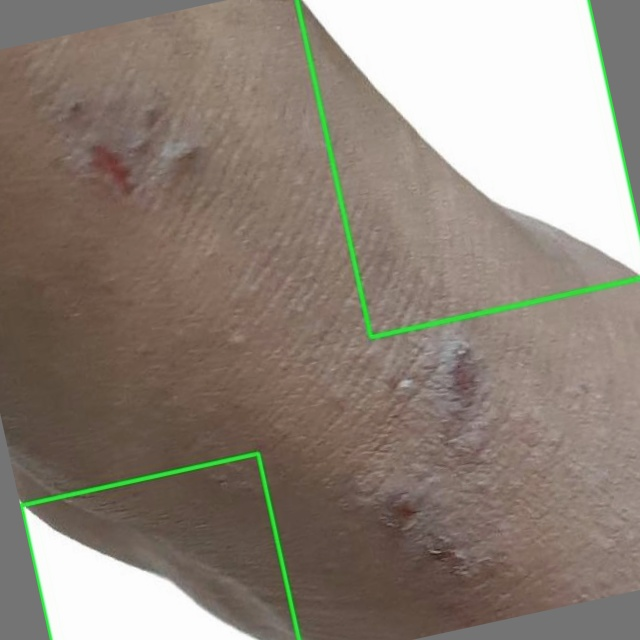Atopic Dermatitis: (297, 0, 639, 337), (21, 454, 299, 639)
